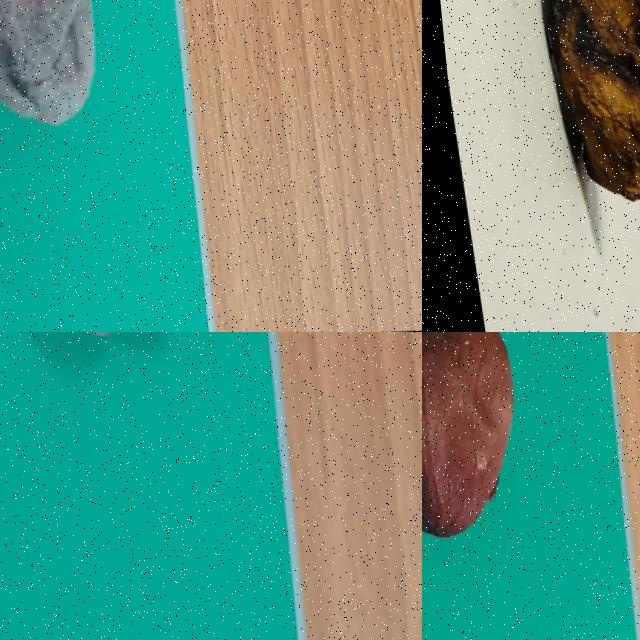Agglomerated_cocoabeans: (0, 0, 155, 194)
Fine_cocoabeans: (422, 332, 561, 588)
Flat_cocoabeans: (490, 0, 639, 284)
